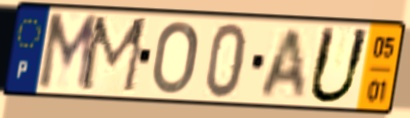0: (203, 20, 251, 101)
A: (256, 26, 308, 100)
M: (78, 14, 152, 97), (34, 12, 102, 95)
O: (149, 19, 201, 97)
U: (304, 23, 374, 107)
